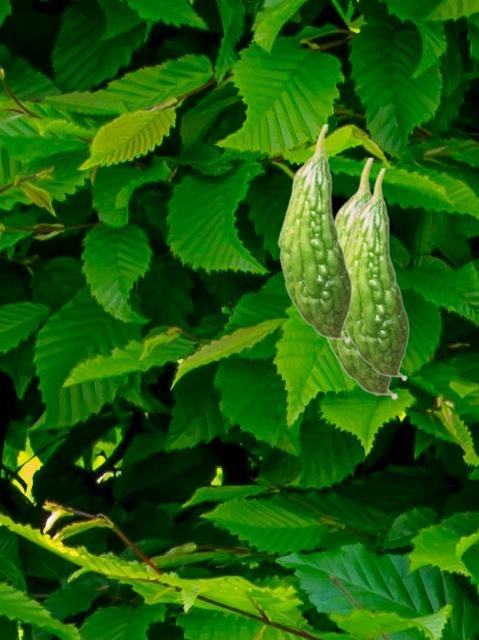ampalaya: (326, 156, 398, 400), (277, 123, 352, 344), (344, 167, 409, 381)
